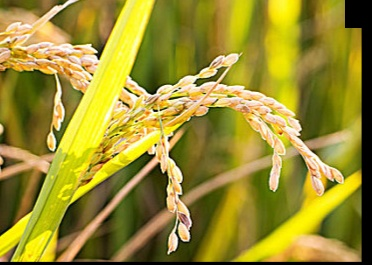rice: (105, 48, 341, 257)
